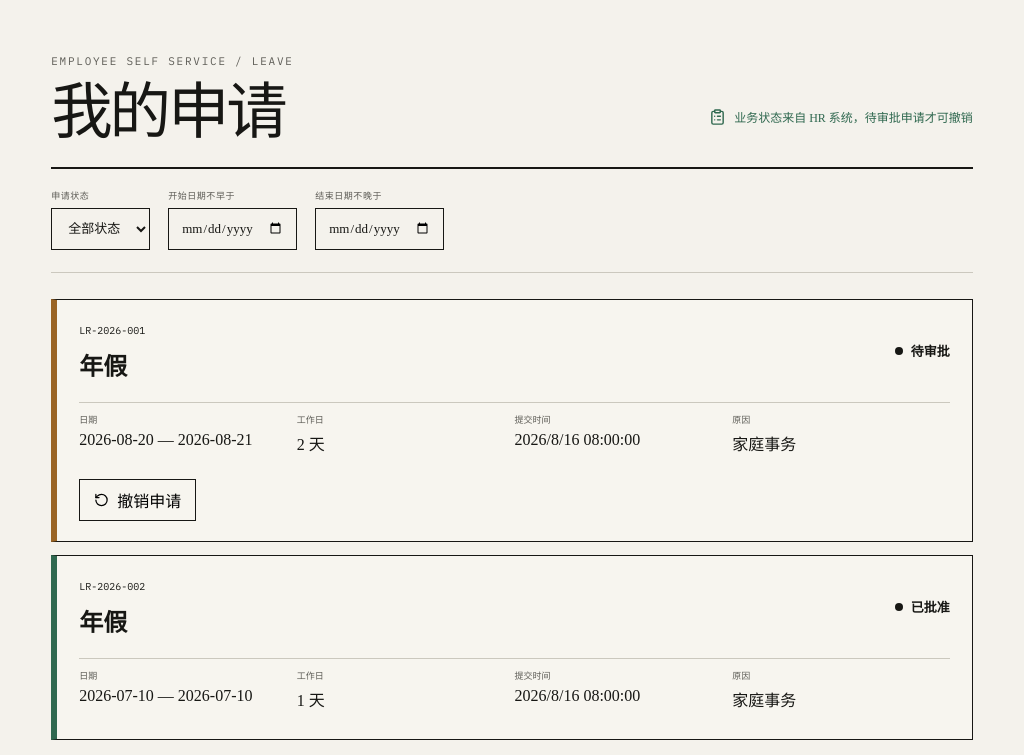
Test case: my leave requests › refreshes real state after a cancellation conflict
What coordinates should you click on to do the following:
click the button with aria-label "撤销 LR-2026-001"
I would click on:
 (138, 500)
Its box is [79,479,196,521].
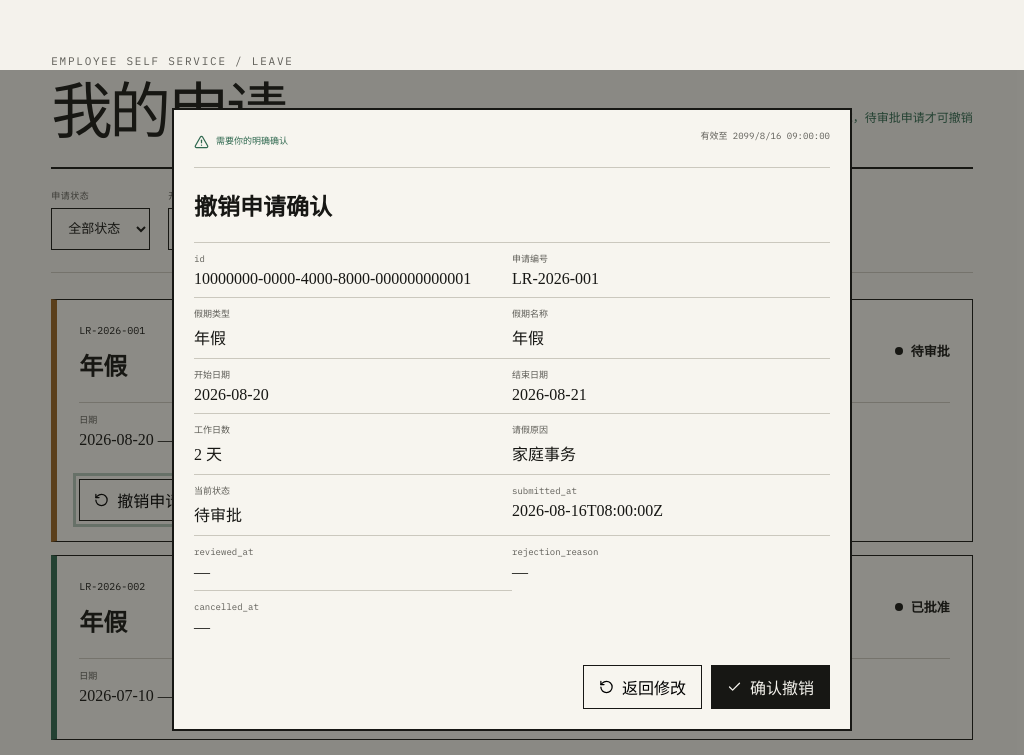
What coordinates should you click on to do the following:
click the button "确认撤销"
I would click on:
 (770, 686)
Its box is [711,664,830,708].
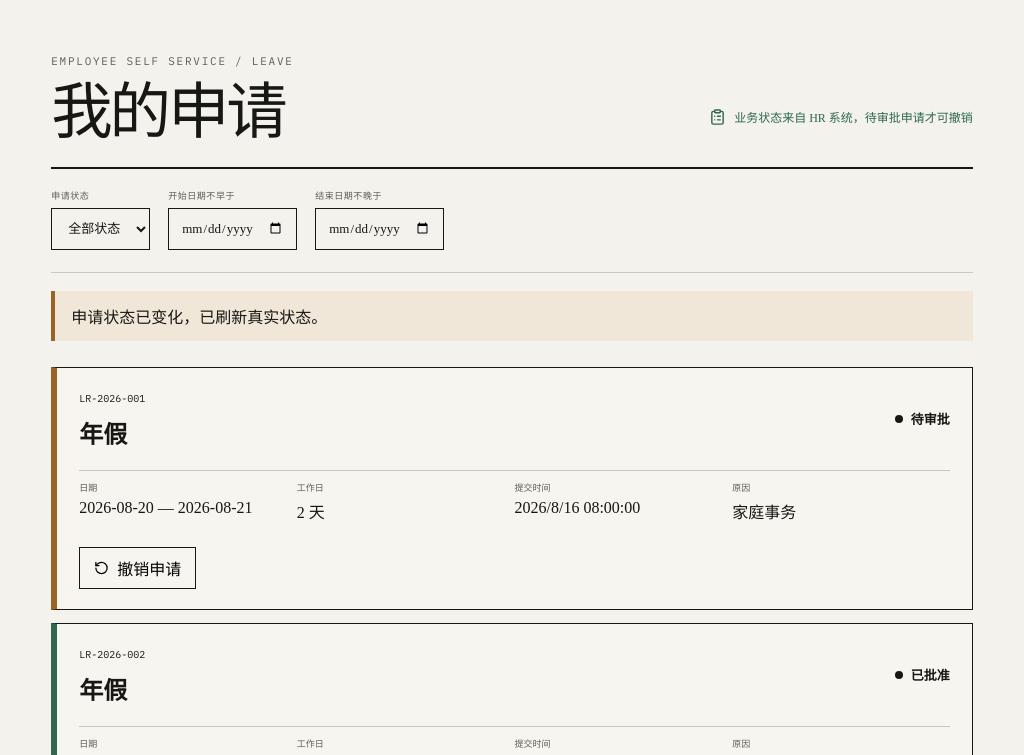
Expected: the message shows "状态已变化", [71,309,327,326]
